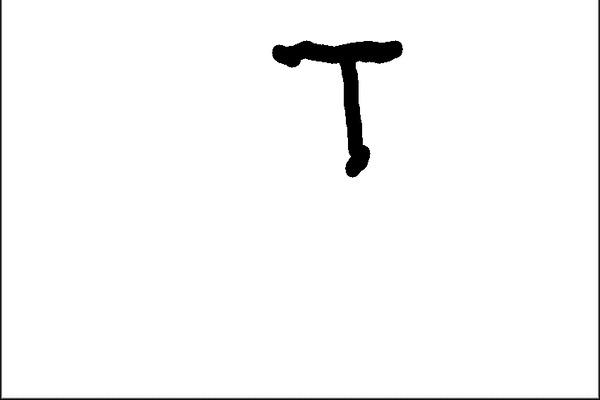T: (262, 25, 421, 183)
